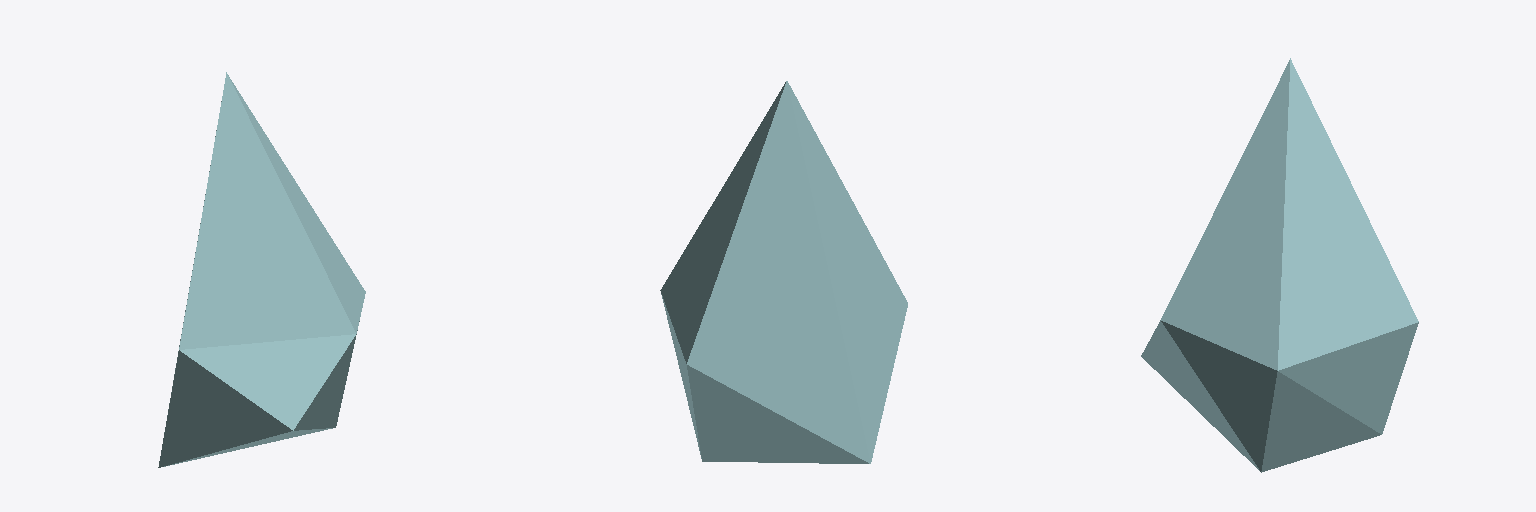
3 renders of one model, left to right at view 1: azimuth 30°, elevation 25°; view 2: azimuth 150°, elevation 25°; view 3: azimuth 270°, elevation 25°, orthographic.
Visible parts, largest first — view 1: Icosphere; view 2: Icosphere; view 3: Icosphere.
Boxes of the visible parts, x1=… form: Icosphere: x1=158, y1=72, x2=365, y2=467; Icosphere: x1=660, y1=81, x2=907, y2=463; Icosphere: x1=1141, y1=58, x2=1418, y2=472.
Bounding box in the file's own units: 1.93 × 3.15 × 2.14.
1 materials, 1 textured.